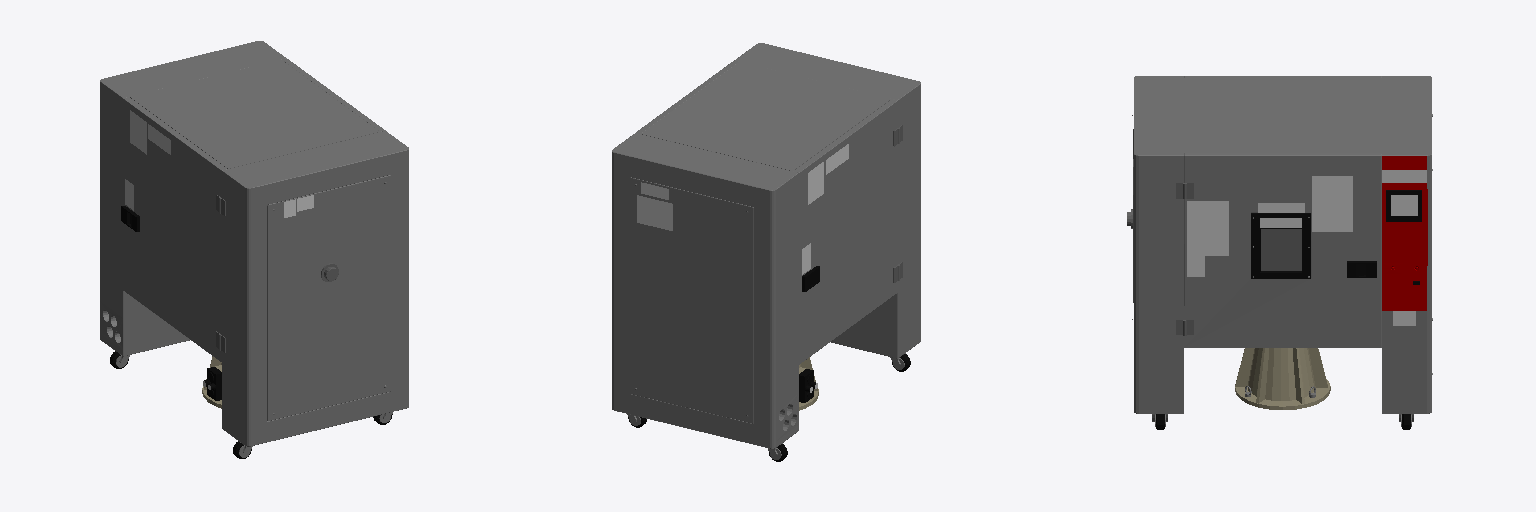
Rendered from 25DZKPJZDT.obj.
3 renders of one model, left to right at view 1: azimuth 30°, elevation 25°; view 2: azimuth 150°, elevation 25°; view 3: azimuth 270°, elevation 25°, orthographic.
Parts seen in each view (by area): view 1: Matel_02, tex, Matel_03, Matel_01; view 2: Matel_02, tex, Matel_03; view 3: Matel_02, tex, Matel_04, Matel_06, Matel_03, Glass, Matel_01.
Part boxes in pixels (left/top/right/bottom): Matel_02: left=100, top=41, right=408, bottom=457; tex: left=125, top=110, right=313, bottom=389; Matel_03: left=110, top=206, right=392, bottom=458; Matel_01: left=216, top=195, right=338, bottom=352; Matel_02: left=612, top=43, right=920, bottom=459; tex: left=637, top=144, right=848, bottom=392; Matel_03: left=628, top=266, right=910, bottom=461; Matel_02: left=1132, top=76, right=1432, bottom=426; tex: left=1187, top=170, right=1426, bottom=325; Matel_04: left=1382, top=156, right=1427, bottom=310; Matel_06: left=1235, top=348, right=1330, bottom=409; Matel_03: left=1156, top=190, right=1421, bottom=429; Glass: left=1261, top=229, right=1301, bottom=270; Matel_01: left=1127, top=183, right=1193, bottom=335.
Bounding box in the file's own units: 40.64 × 63.56 × 62.73.